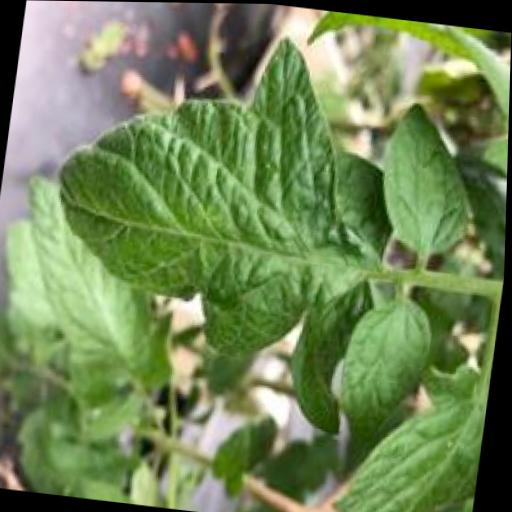Healthy: (39, 16, 414, 373), (373, 102, 487, 257), (335, 292, 443, 446)
